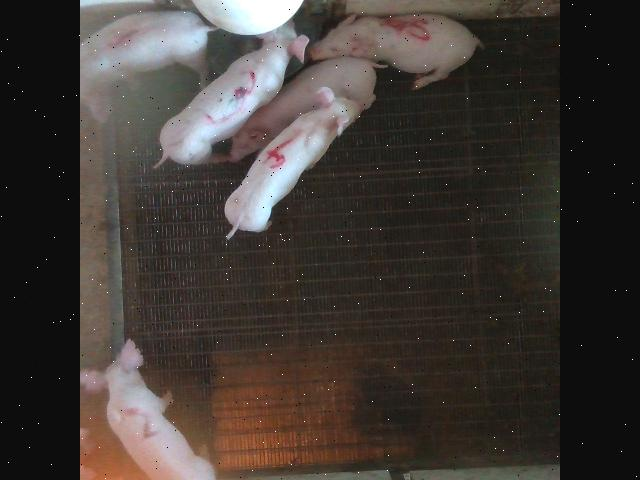pig-1: (81, 10, 212, 79)
pig-2: (82, 339, 216, 480)
pig-3: (158, 21, 309, 164)
pig-4: (226, 86, 362, 238)
pig-5: (308, 14, 482, 89)
